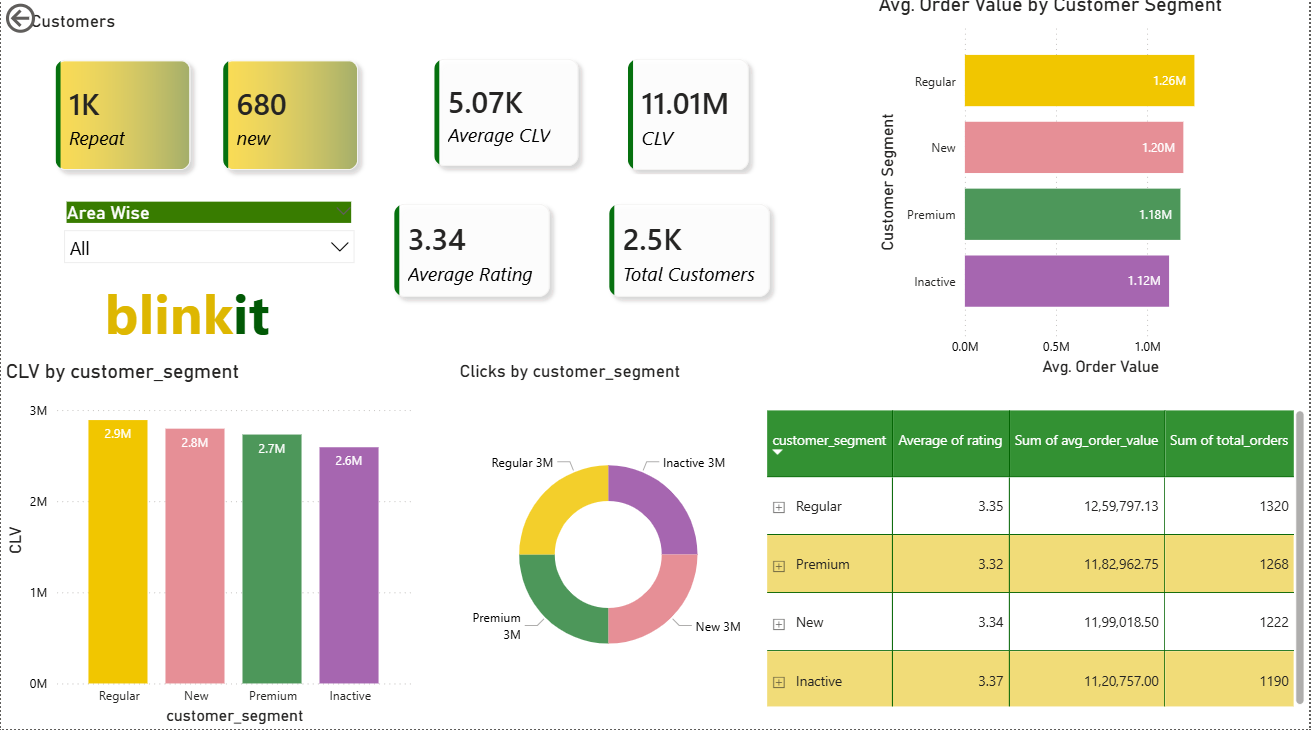

The dashboard page shown, as its layout file describes it:
{"tool":"powerbi","page":{"name":"customers","canvas":[1280,720],"ordinal":1},"visuals":[{"type":"cardVisual","fields":{"Data":["Sum(customer_repeatation.clv)"]},"box":[584.5,35.5,176.1,167.5],"z":0},{"type":"cardVisual","fields":{"Data":["Avg(customer_repeatation.clv)"]},"box":[395,35.5,199.3,163.9],"z":1000},{"type":"cardVisual","title":"Customers","fields":{"Data":["customer_repeatation.Repeat","customer_repeatation.new"]},"box":[24.5,17.1,355.8,185.9],"z":2000},{"type":"donutChart","fields":{"Category":["customers.customer_segment"],"Y":["Sum(marketing performance.clicks)"]},"box":[443.9,359.5,300.8,360.7],"z":3000},{"type":"clusteredColumnChart","fields":{"Category":["customers.customer_segment"],"Y":["Sum(customer_repeatation.clv)"]},"box":[0,359.5,407.2,360.7],"z":4000},{"type":"clusteredBarChart","fields":{"Category":["customers.customer_segment"],"Y":["Sum(customer_repeatation.avg_order_value)"]},"box":[853.5,0,374.2,379.1],"z":5000},{"type":"cardVisual","fields":{"Data":["Avg(delivery feedback.rating)"]},"box":[355.8,177.3,210.3,149.2],"z":6000},{"type":"slicer","fields":{"Values":["customers.area"]},"box":[51.4,199.3,304.5,127.2],"z":7000},{"type":"cardVisual","fields":{"Data":["CountNonNull(customers.customer_id)"]},"box":[566.2,177.3,215.2,149.2],"z":8000},{"type":"pivotTable","fields":{"Rows":["customers.customer_segment","sentiment delay summary.sentiment"],"Values":["Avg(delivery feedback.rating)","Sum(customer_repeatation.avg_order_value)","Sum(customer_repeatation.total_orders)"]},"box":[744.7,403.5,535.6,299.6],"z":9000},{"type":"textbox","box":[96.6,271.5,182.2,88],"z":10000},{"type":"actionButton","box":[0,0,38.2,49.1],"z":11000}]}

Visuals, with their boxes in screenshot pixels (x1, y1, x2, y2), scaled from the page's 1280x720 canvas onto the 1313x730 screenshot:
cardVisual - Sum(customer_repeatation.clv): detection(600, 36, 780, 206)
cardVisual - Avg(customer_repeatation.clv): detection(405, 36, 610, 202)
"Customers" cardVisual: detection(25, 17, 390, 206)
donutChart - customers.customer_segment x Sum(marketing performance.clicks): detection(455, 364, 764, 729)
clusteredColumnChart - customers.customer_segment x Sum(customer_repeatation.clv): detection(0, 364, 418, 729)
clusteredBarChart - customers.customer_segment x Sum(customer_repeatation.avg_order_value): detection(876, 0, 1259, 384)
cardVisual - Avg(delivery feedback.rating): detection(365, 180, 581, 331)
slicer - customers.area: detection(53, 202, 365, 331)
cardVisual - CountNonNull(customers.customer_id): detection(581, 180, 802, 331)
pivotTable - customers.customer_segment x sentiment delay summary.sentiment: detection(764, 409, 1312, 713)
textbox: detection(99, 275, 286, 364)
actionButton: detection(0, 0, 39, 50)
